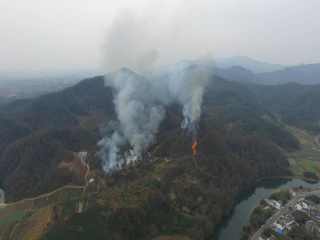smoke: (96, 6, 205, 177)
